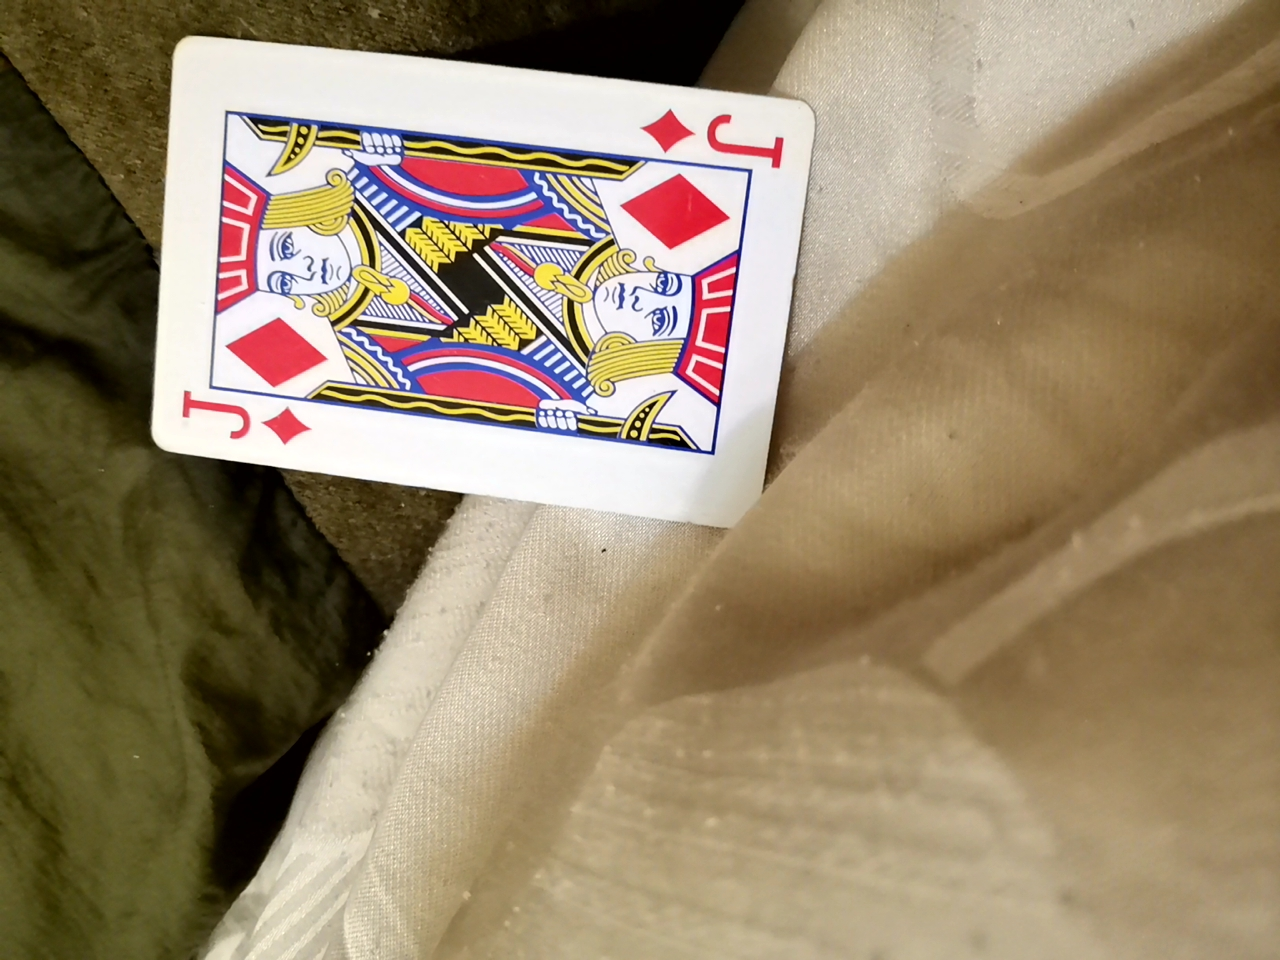fk j: (140, 54, 794, 544)
